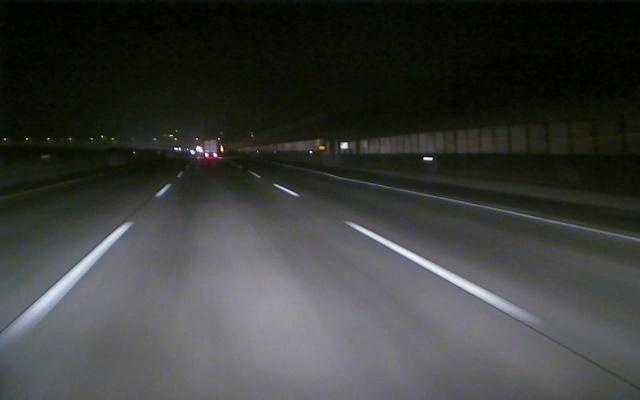lane: (261, 179, 545, 332), (4, 183, 171, 348), (360, 180, 640, 242)
